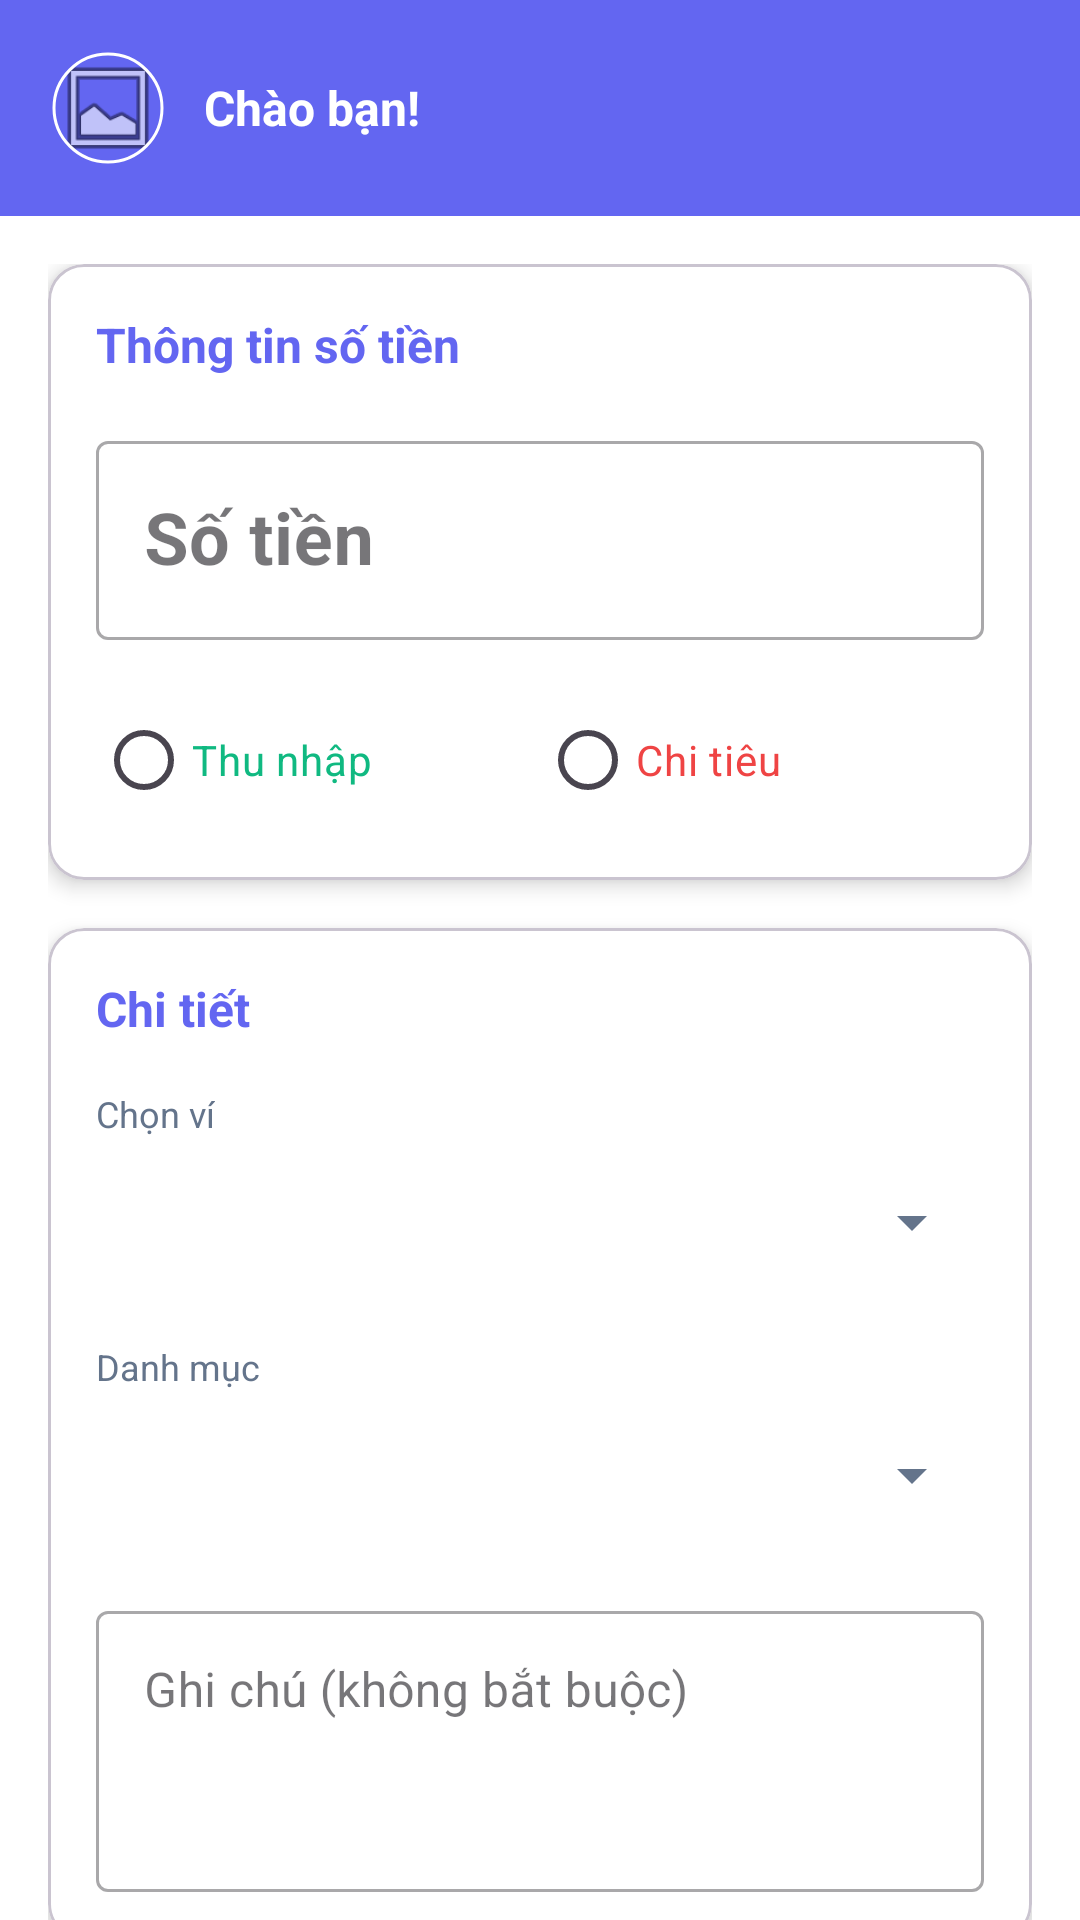

Icon click points for this 1080x1920 phone screenshot, format [x,y]:
gallery: [108,108]
